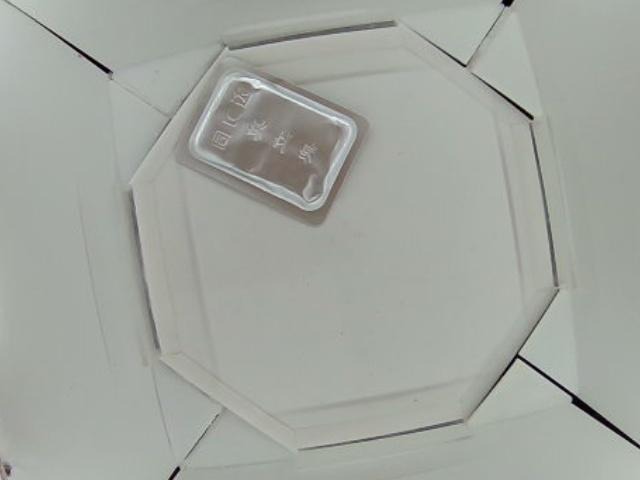Medicine: (177, 55, 367, 227)
